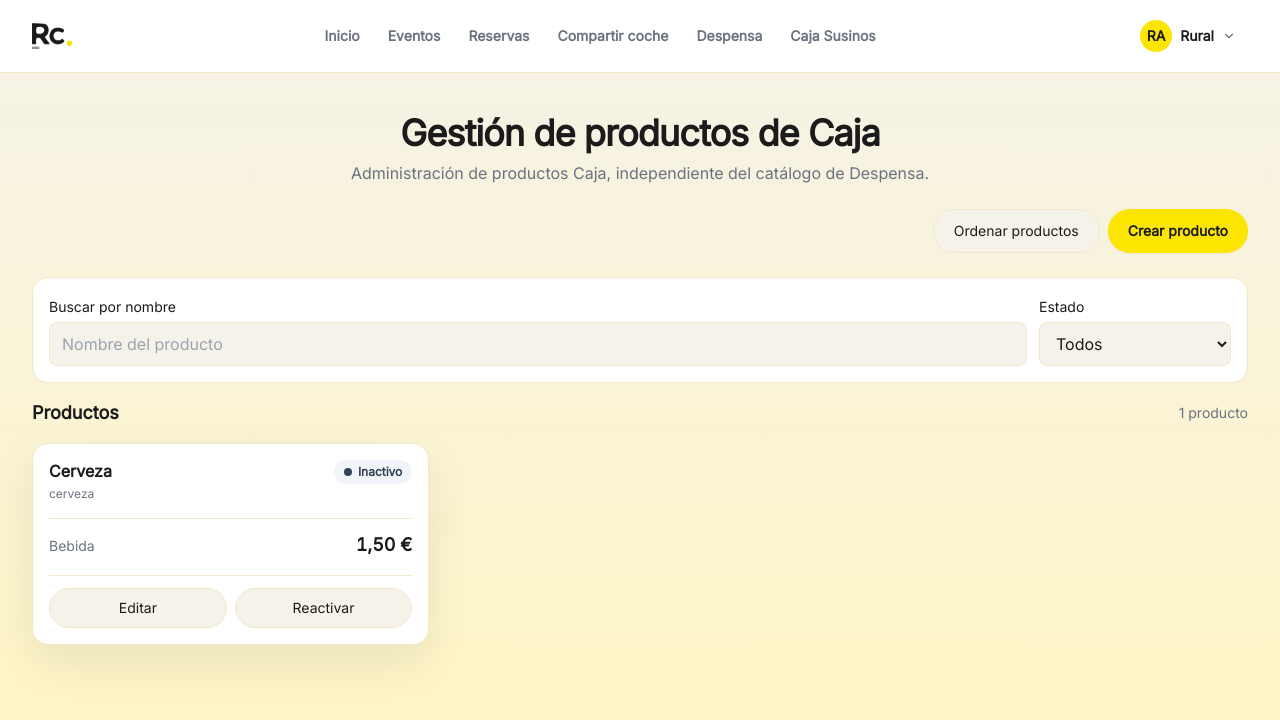
Test case: Caja product administration UI › shows reactivation API errors without refreshing
This screenshot has width=1280, height=720.
Click the button "Reactivar" at [324, 608], box [235, 588, 412, 628]
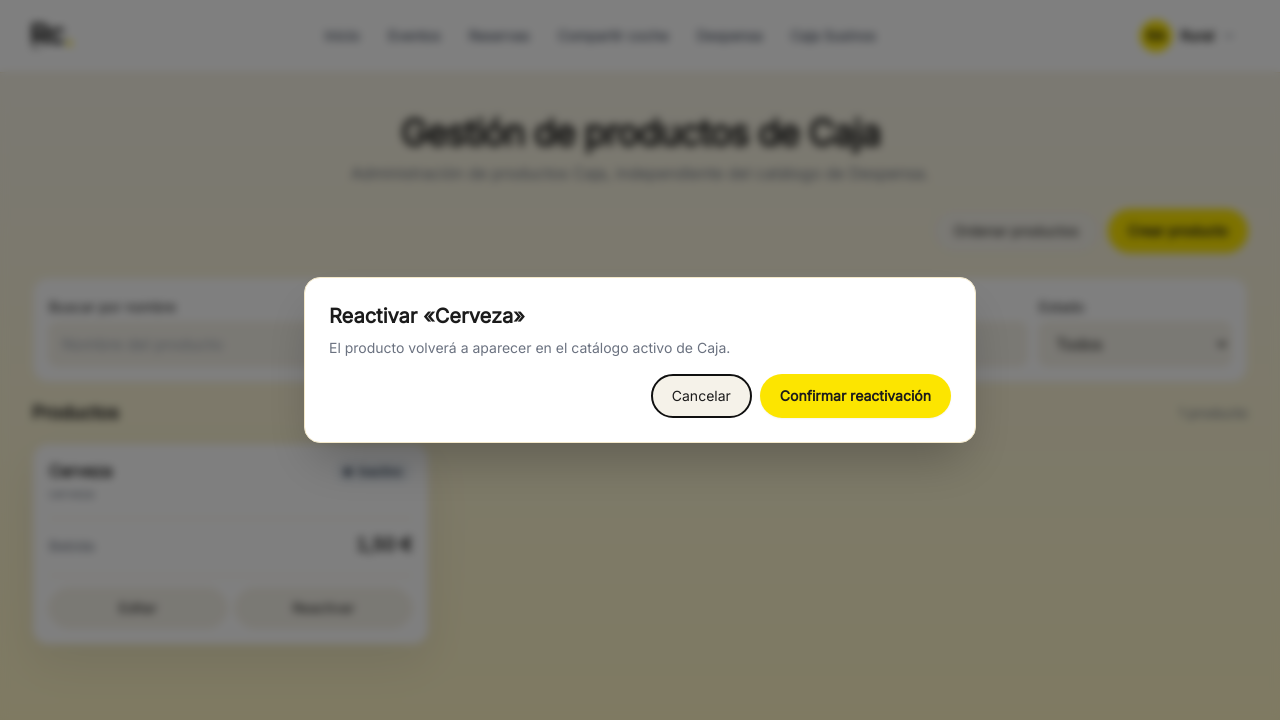
Click the button "Confirmar reactivación" at [855, 396], box [760, 374, 951, 418]
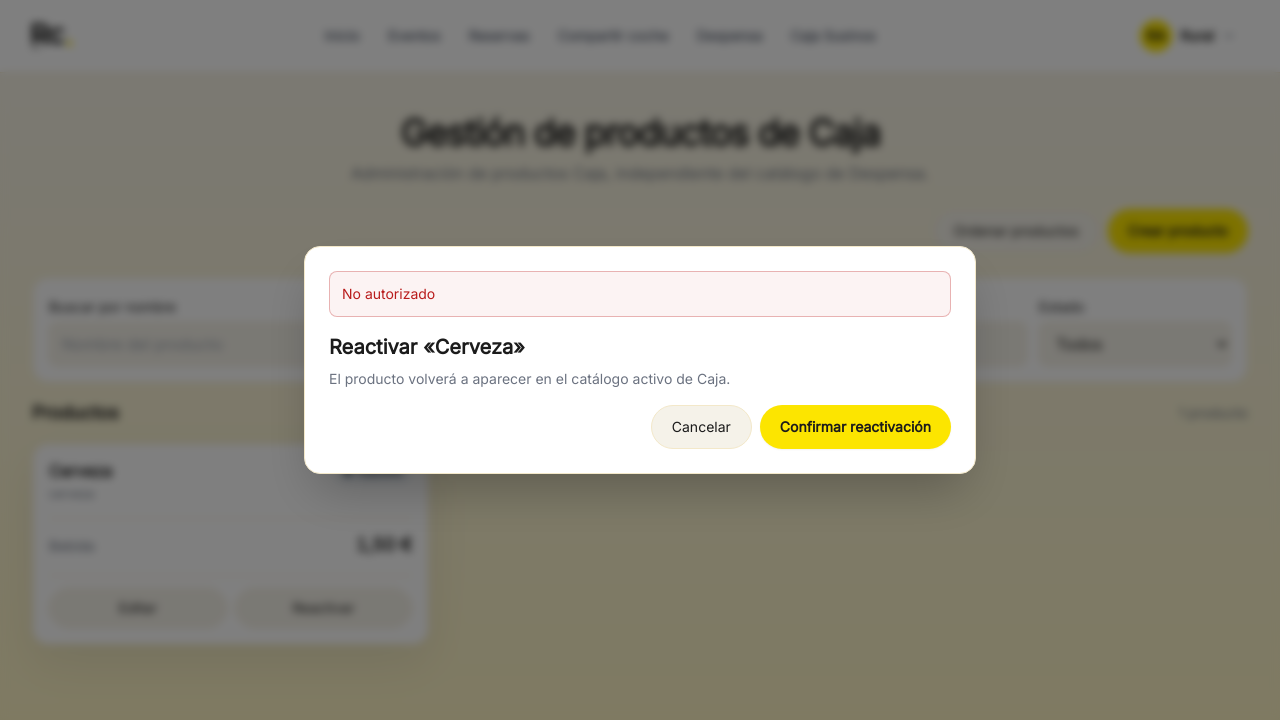
Expected: the button "Reactivar" is shown, [235, 588, 412, 628]
Expected: the message reads "No autorizado", [342, 285, 435, 302]
